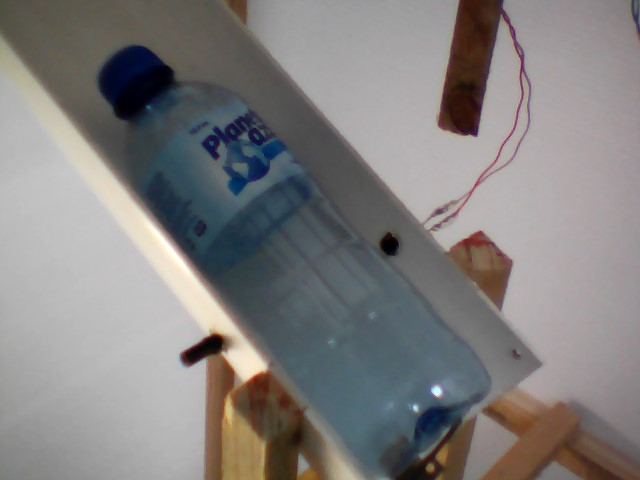plastico: (87, 33, 496, 480)
